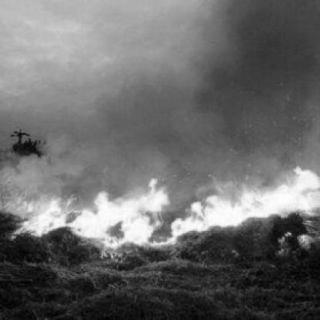Fire: (8, 171, 318, 251)
